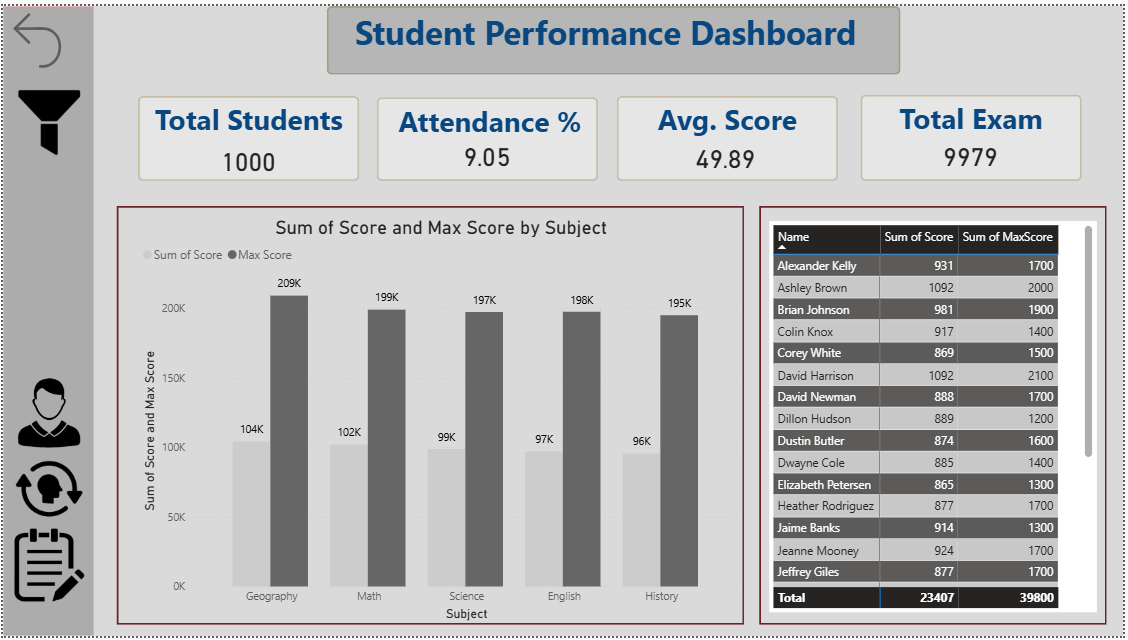

The page's visual inventory and layout, read from the dashboard file:
{"tool":"powerbi","page":{"name":"Dashboard","canvas":[1280,720],"ordinal":0},"visuals":[{"type":"shape","box":[154.3,102.9,252.9,97.1],"z":0},{"type":"card","fields":{"Values":["Measures Table.Total Students"]},"box":[154.3,152.9,252.9,48.6],"z":1000},{"type":"textbox","box":[154.2,103.1,253.2,69.7],"z":2000},{"type":"shape","box":[427.1,104.3,252.9,95.7],"z":3000},{"type":"card","fields":{"Values":["Measures Table.Attendance %"]},"box":[427.1,141.4,252.9,60],"z":4000},{"type":"textbox","box":[430,104.3,252.9,65.7],"z":5000},{"type":"shape","box":[701.4,102.9,252.9,97.1],"z":6000},{"type":"card","fields":{"Values":["Measures Table.Avg Score"]},"box":[698.6,147.1,254.3,51.4],"z":7000},{"type":"textbox","box":[701.4,102.9,252.9,67.1],"z":8000},{"type":"shape","box":[980,101.4,252.9,98.6],"z":9000},{"type":"card","fields":{"Values":["Measures Table.Total Exams"]},"box":[978.6,142.9,254.3,57.1],"z":10000},{"type":"textbox","box":[980,101.4,252.9,68.6],"z":11000},{"type":"shape","box":[0,0,104.3,720],"z":12000},{"type":"shape","box":[370,0,655.7,78.6],"z":13000},{"type":"textbox","box":[397.1,0,601.4,70],"z":14000},{"type":"shape","box":[864.3,228.6,397.1,478.6],"z":15000},{"type":"pivotTable","fields":{"Rows":["Students.Name"],"Values":["Scores.Score","Scores.MaxScore"]},"box":[875.7,245.7,374.3,447.1],"z":16000},{"type":"actionButton","box":[0,0,104.3,78.6],"z":17000},{"type":"image","box":[12.9,508.6,80,87.1],"z":18000},{"type":"image","box":[12.9,421.4,80,87.1],"z":19000},{"type":"image","box":[12.9,595.7,80,87.1],"z":20000},{"type":"image","box":[12.9,90,80,87.1],"z":21000},{"type":"shape","box":[130,228.6,717.1,478.6],"z":22000},{"type":"clusteredColumnChart","fields":{"Category":["Scores.Subject"],"Y":["Scores.Score","Measures Table.Max Score"]},"box":[154.3,240,692.9,467.1],"z":23000}]}

Visuals, with their boxes on the page's 1280x720 design canvas (x1, y1, x2, y2). These are canvas units, not pixel positions in the 1128x640 screenshot, which may show the page scaled, cropped or inside an application window:
shape: locate(154, 103, 407, 200)
card - Measures Table.Total Students: locate(154, 153, 407, 202)
textbox: locate(154, 103, 407, 173)
shape: locate(427, 104, 680, 200)
card - Measures Table.Attendance %: locate(427, 141, 680, 201)
textbox: locate(430, 104, 683, 170)
shape: locate(701, 103, 954, 200)
card - Measures Table.Avg Score: locate(699, 147, 953, 198)
textbox: locate(701, 103, 954, 170)
shape: locate(980, 101, 1233, 200)
card - Measures Table.Total Exams: locate(979, 143, 1233, 200)
textbox: locate(980, 101, 1233, 170)
shape: locate(0, 0, 104, 720)
shape: locate(370, 0, 1026, 79)
textbox: locate(397, 0, 998, 70)
shape: locate(864, 229, 1261, 707)
pivotTable - Students.Name x Scores.Score: locate(876, 246, 1250, 693)
actionButton: locate(0, 0, 104, 79)
image: locate(13, 509, 93, 596)
image: locate(13, 421, 93, 508)
image: locate(13, 596, 93, 683)
image: locate(13, 90, 93, 177)
shape: locate(130, 229, 847, 707)
clusteredColumnChart - Scores.Subject x Scores.Score: locate(154, 240, 847, 707)
